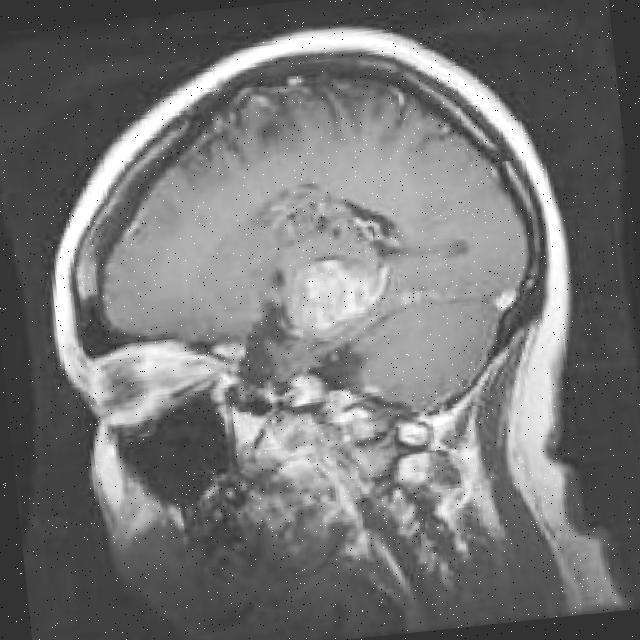MCI: (254, 256, 414, 354)
